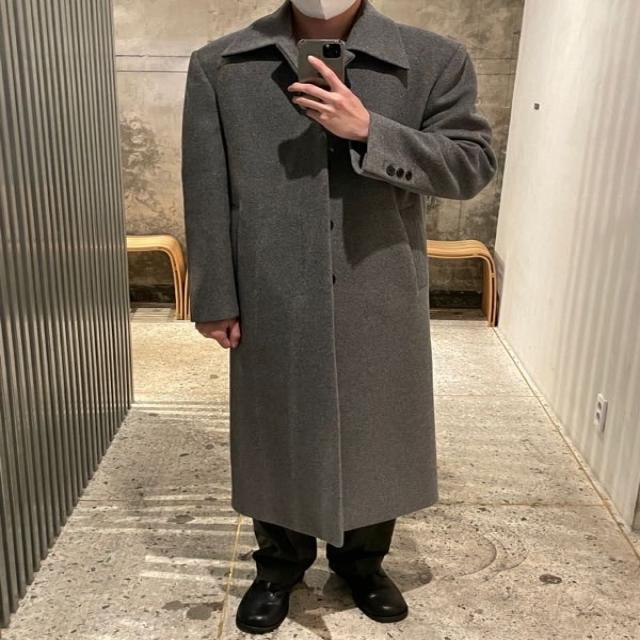coat: (182, 0, 498, 551)
